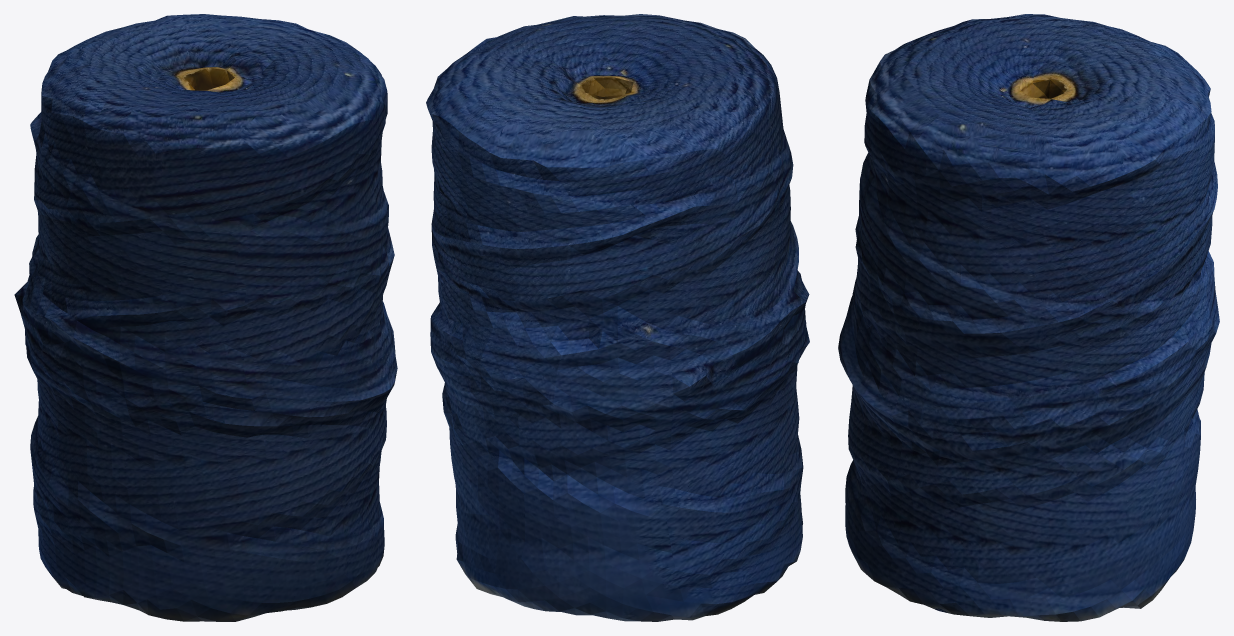
The model's file is corner comms dec.fbx.
The picture shows the model from 3 angles, left to right: view 1: azimuth 30°, elevation 25°; view 2: azimuth 150°, elevation 25°; view 3: azimuth 270°, elevation 25°; orthographic projection.
Size of the model in its own units: 0.498 by 0.7285 by 0.5031.
Materials: 1 (1 with a texture image).
